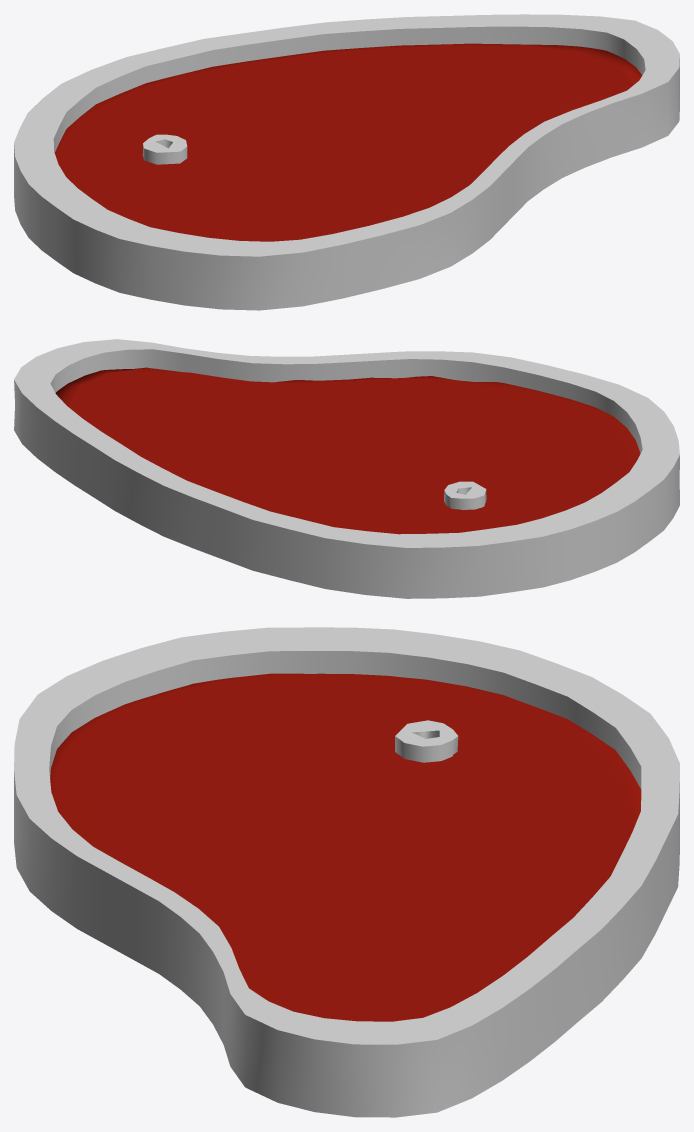
File: meat.fbx
The picture shows the model from 3 angles, top to bottom: view 1: azimuth 30°, elevation 25°; view 2: azimuth 150°, elevation 25°; view 3: azimuth 270°, elevation 25°; orthographic projection. The views are drawn at different scales.
Visible parts, largest first — view 1: Plane002, Plane001; view 2: Plane002, Plane001; view 3: Plane002, Plane001.
Boxes of the visible parts, x1,y1,x2,y2 form: Plane002: (54,43,642,241); Plane001: (14,14,679,310); Plane002: (55,367,640,534); Plane001: (14,339,679,598); Plane002: (50,673,641,1021); Plane001: (14,627,679,1117).
Bounding box in the file's own units: 2.34 × 0.1904 × 1.58.
